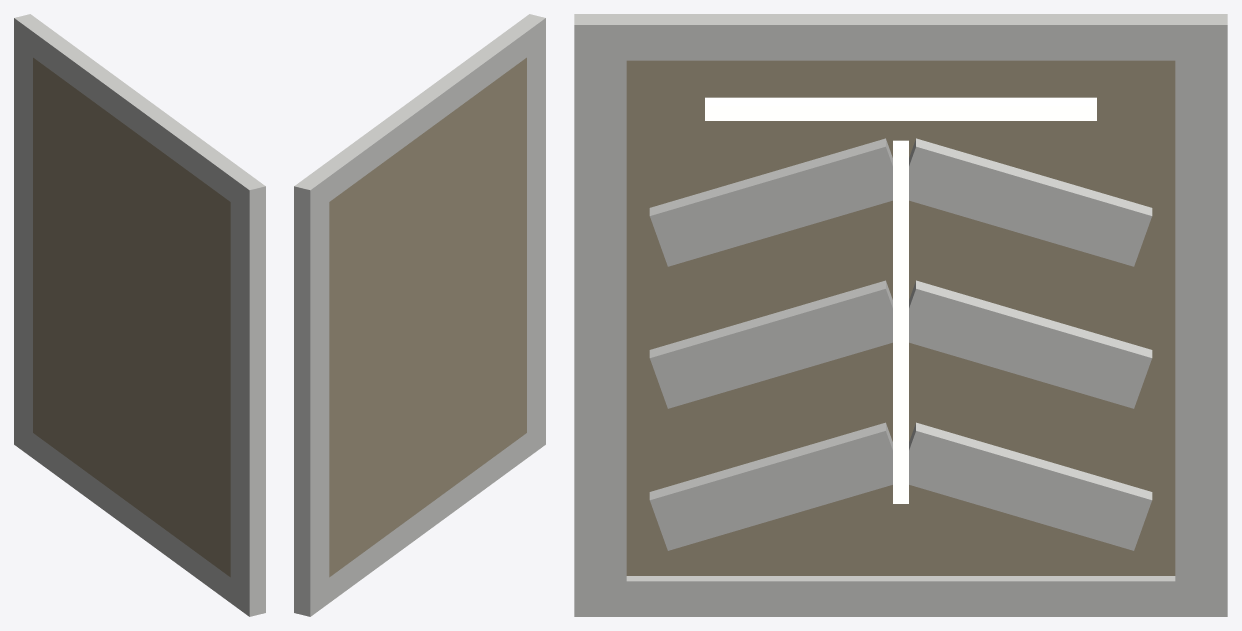
File: SM_SB_Kit_Relief.fbx
The picture shows the model from 3 angles, left to right: view 1: azimuth 30°, elevation 25°; view 2: azimuth 150°, elevation 25°; view 3: azimuth 270°, elevation 25°; orthographic projection. The views are drawn at different scales.
Parts seen in each view (by area): view 1: SM_SB_Kit_Relief; view 2: SM_SB_Kit_Relief; view 3: SM_SB_Kit_Relief.
Boxes of the visible parts, box(x1,y1,x2,y2) form: SM_SB_Kit_Relief: box(14, 14, 265, 616); SM_SB_Kit_Relief: box(294, 14, 545, 616); SM_SB_Kit_Relief: box(574, 14, 1227, 616).
Size of the model in its own units: 6 by 100 by 100.
